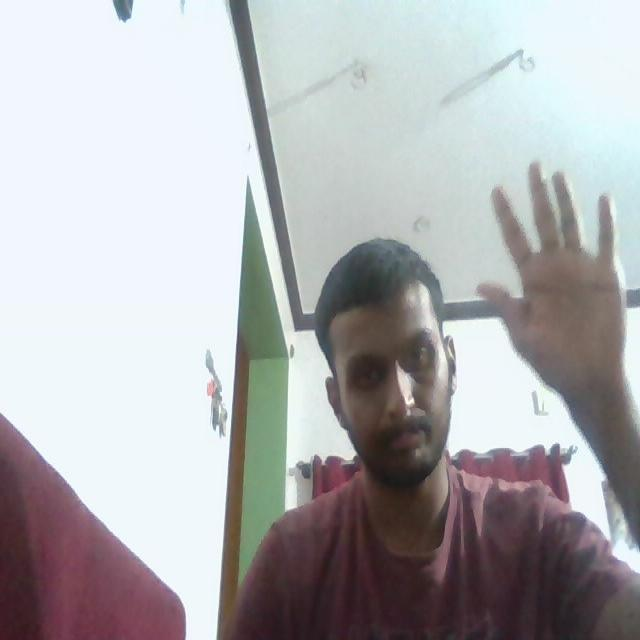hello-yes-no-iloveyou-please: (471, 154, 640, 402)
